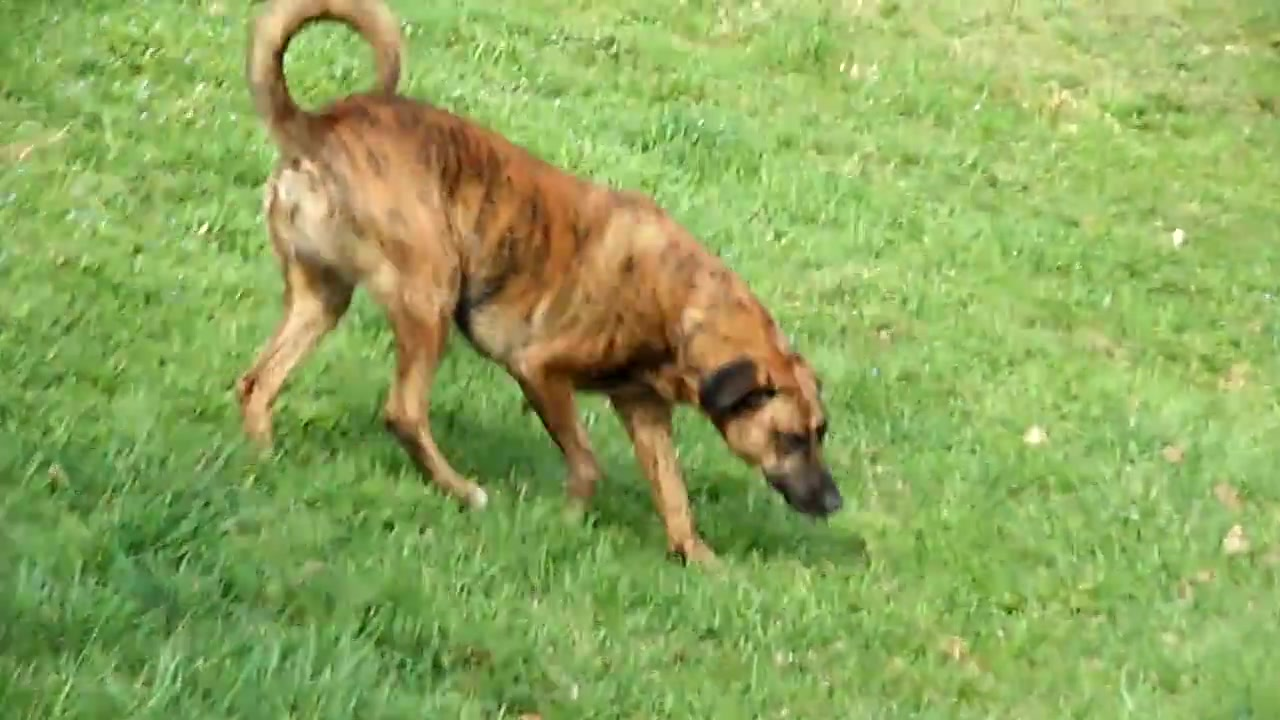dog: (228, 4, 846, 577)
